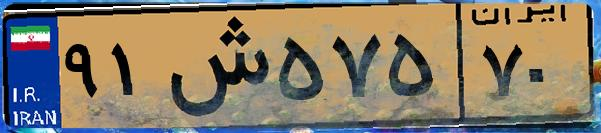0: (525, 38, 570, 115)
1: (110, 28, 158, 98)
5: (270, 28, 330, 110), (385, 28, 445, 110)
7: (330, 28, 385, 110), (475, 38, 525, 113)
9: (57, 26, 110, 100)
ش: (158, 12, 270, 120)
